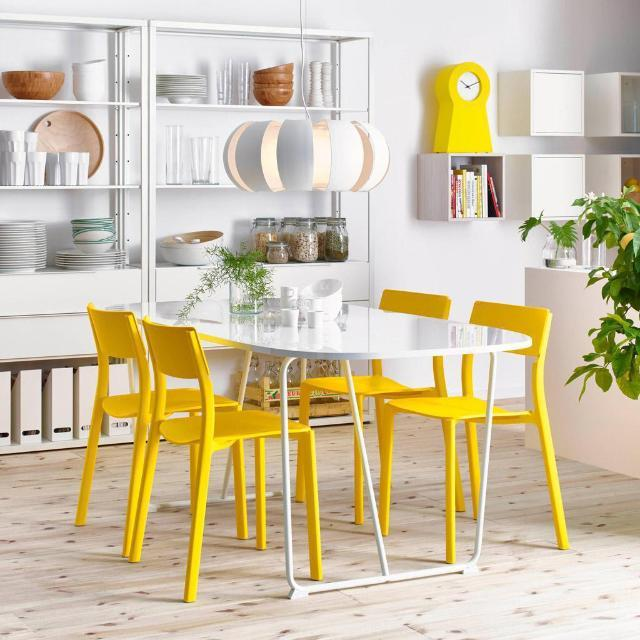chair: (379, 300, 570, 563), (130, 318, 280, 601)
clock: (434, 62, 492, 152)
light: (224, 25, 390, 192), (309, 30, 371, 121)
shelf: (0, 15, 370, 364)
table: (189, 303, 532, 598)
